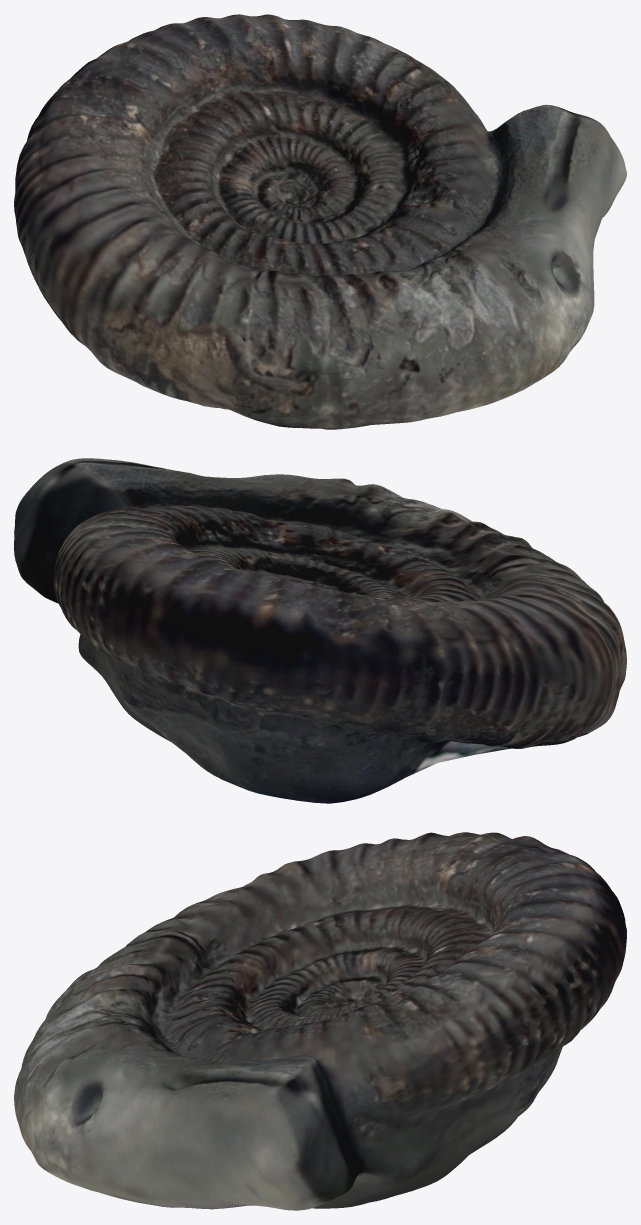
The model's file is fossil.glb.
3 renders of one model, top to bottom at view 1: azimuth 30°, elevation 25°; view 2: azimuth 150°, elevation 25°; view 3: azimuth 270°, elevation 25°, orthographic. The views are drawn at different scales.
Visible parts, largest first — view 1: 7aa29102-d5bd-49f8-8d93-ed21c665f09c; view 2: 7aa29102-d5bd-49f8-8d93-ed21c665f09c; view 3: 7aa29102-d5bd-49f8-8d93-ed21c665f09c.
Part boxes in pixels (x1=…): 7aa29102-d5bd-49f8-8d93-ed21c665f09c: x1=14, y1=14, x2=626, y2=429; 7aa29102-d5bd-49f8-8d93-ed21c665f09c: x1=14, y1=458, x2=626, y2=803; 7aa29102-d5bd-49f8-8d93-ed21c665f09c: x1=14, y1=832, x2=626, y2=1210.
Size of the model in its own units: 0.4712 by 0.1914 by 0.4215.
1 material, 1 textured.
